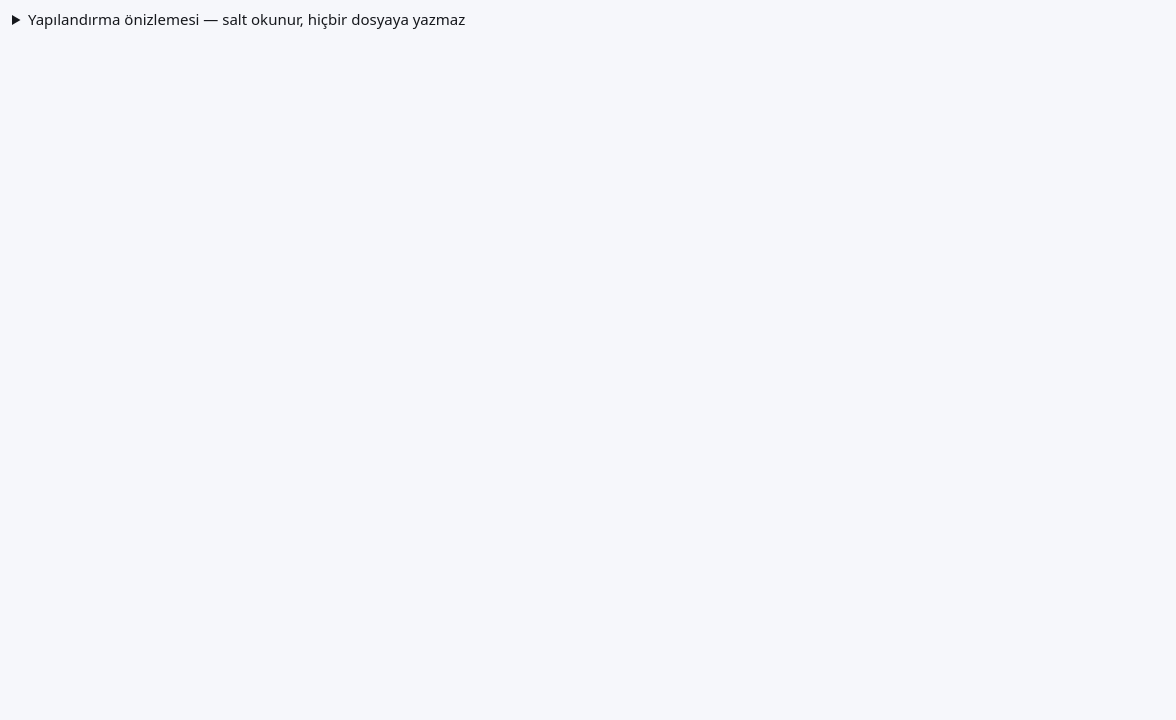
Scenario: opt-in, one click = one call, saying no › shows the gate text with the file, the limit, the disclosures and the two labels before anything can be read
The image size is (1176, 720).
Click the heading "Yapılandırma önizlemesi — salt okunur, hiçbir dosyaya yazmaz" at point(247, 19), box x1=28 y1=9 x2=465 y2=29
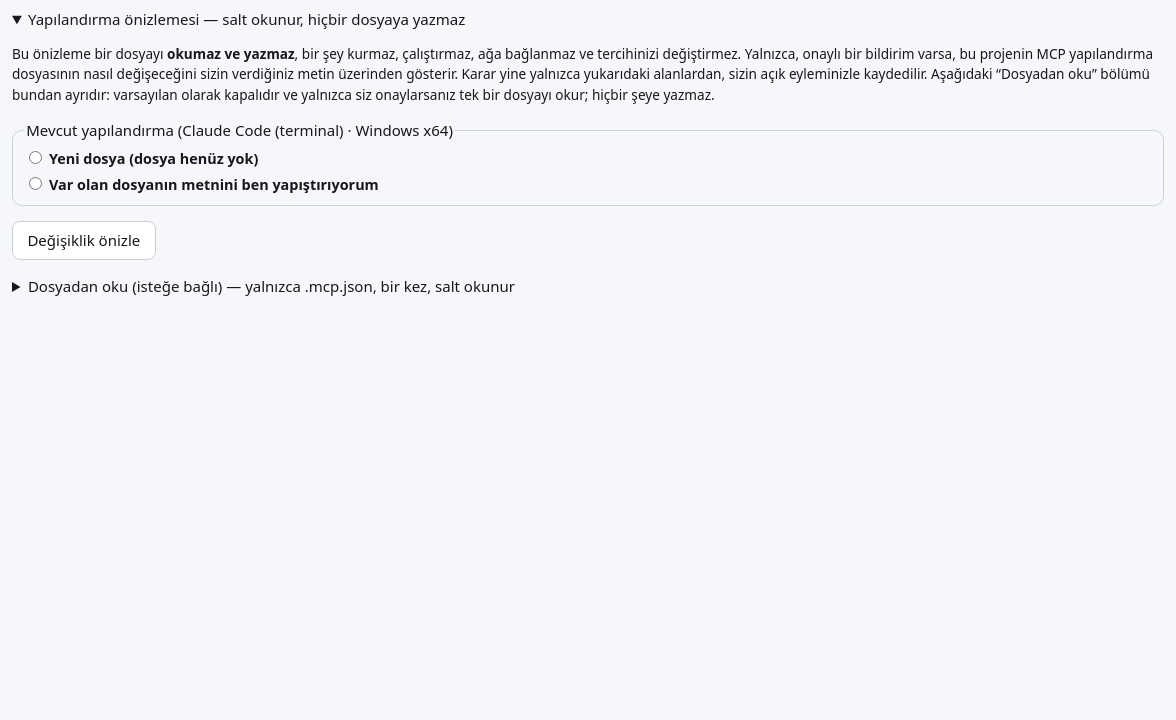
Click the heading "Dosyadan oku (isteğe bağlı) — yalnızca .mcp.json, bir kez, salt okunur" at point(271, 286), box x1=28 y1=276 x2=515 y2=296
(page scrolled)
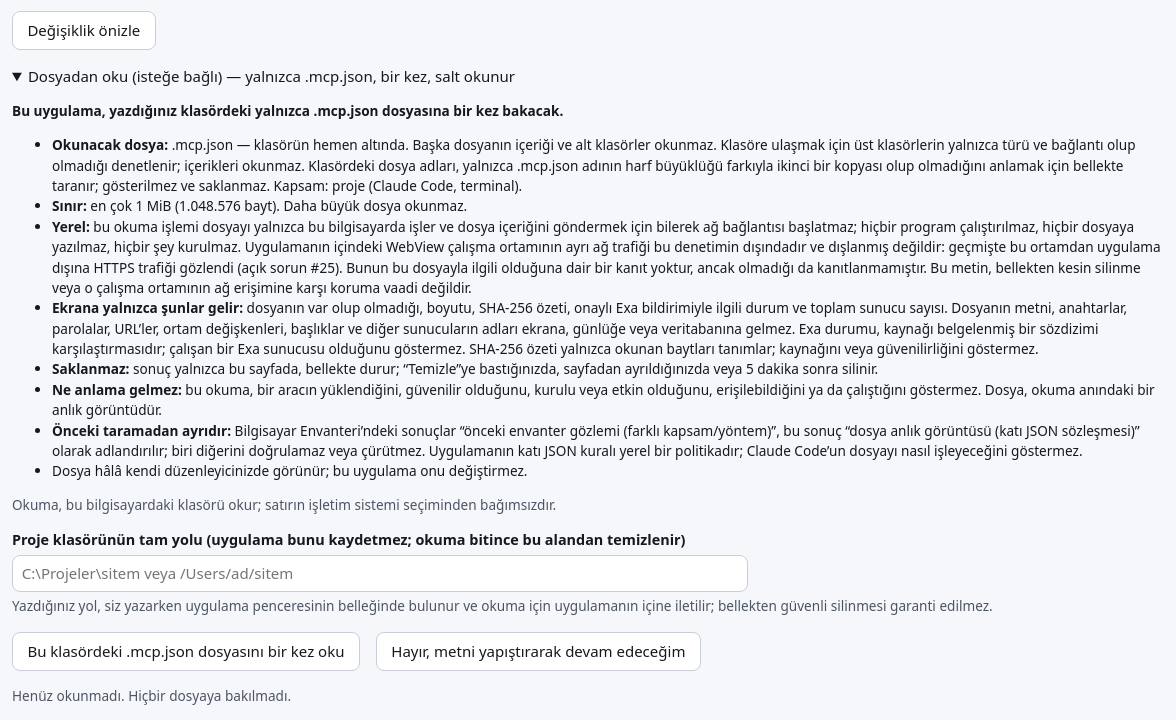
Expected: the text ".mcp.json" is shown, x1=28 y1=66 x2=515 y2=86
Expected: the text "1.048.576" is shown, x1=90 y1=196 x2=467 y2=215
Expected: the text "üst klasörlerin yalnızca türü" is shown, x1=52 y1=135 x2=1136 y2=195
